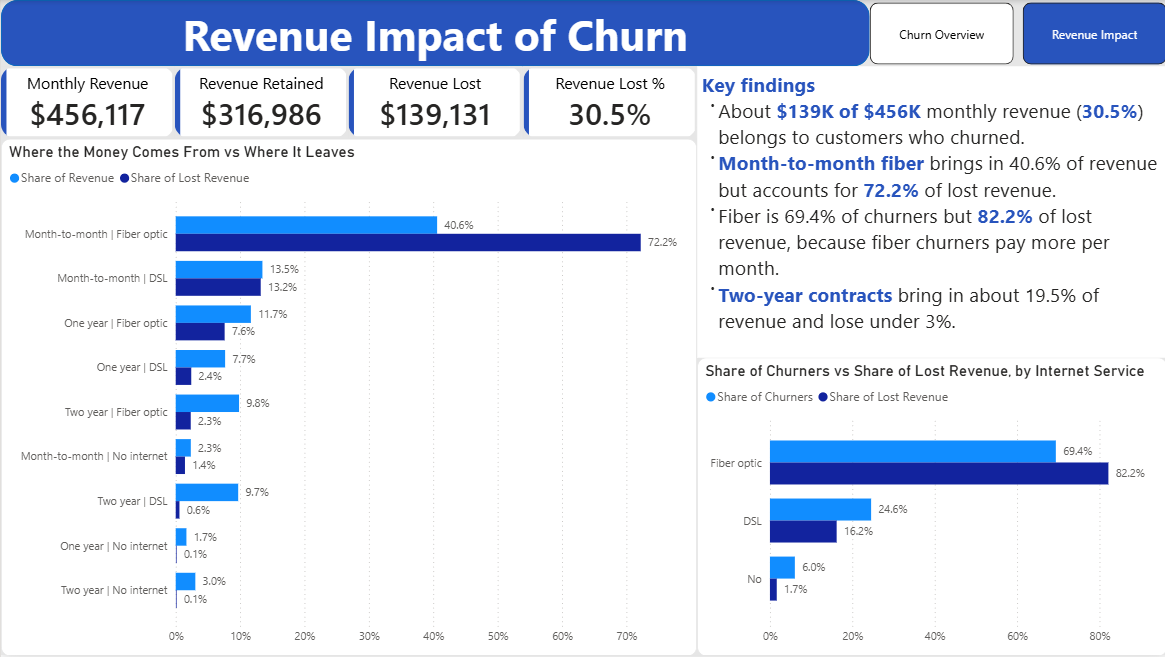

The page's visual inventory and layout, read from the dashboard file:
{"tool":"powerbi","page":{"name":"Revenue Impact","canvas":[1280,720],"ordinal":1},"visuals":[{"type":"shape","box":[0,0,953.7,72.7],"z":0},{"type":"cardVisual","fields":{"Data":["WA_Fn-UseC_-Telco-Customer-Churn.Monthly Revenue1"]},"box":[0,72.7,190.7,79.6],"z":1000},{"type":"cardVisual","fields":{"Data":["WA_Fn-UseC_-Telco-Customer-Churn.Revenue Retained1"]},"box":[190.7,72.7,190.7,79.6],"z":2000},{"type":"cardVisual","fields":{"Data":["WA_Fn-UseC_-Telco-Customer-Churn.Revenue Lost Text"]},"box":[381.5,72.7,190.7,79.6],"z":3000},{"type":"cardVisual","fields":{"Data":["WA_Fn-UseC_-Telco-Customer-Churn.Revenue Lost %"]},"box":[573.6,72.7,190.7,79.6],"z":4000},{"type":"clusteredBarChart","title":"Where the Money Comes From vs Where It Leaves","fields":{"Category":["WA_Fn-UseC_-Telco-Customer-Churn.Segment"],"Y":["WA_Fn-UseC_-Telco-Customer-Churn.Share of Revenue","WA_Fn-UseC_-Telco-Customer-Churn.Share of Lost Revenue"]},"box":[0,152.3,764.3,568.1],"z":5000},{"type":"clusteredBarChart","title":"Share of Churners vs Share of Lost Revenue, by Internet Service","fields":{"Category":["WA_Fn-UseC_-Telco-Customer-Churn.InternetService"],"Y":["WA_Fn-UseC_-Telco-Customer-Churn.Share of Churners","WA_Fn-UseC_-Telco-Customer-Churn.Share of Lost Revenue"]},"box":[764.3,392.5,516,328],"z":6000},{"type":"textbox","box":[764.3,72.7,516,319.7],"z":7000},{"type":"pageNavigator","box":[953.7,2.7,326.6,68.6],"z":8000}]}

Visuals, with their boxes in screenshot pixels (x1, y1, x2, y2), scaled from the page's 1280x720 canvas onto the 1165x657 screenshot:
shape: left=0, top=0, right=868, bottom=66
cardVisual - WA_Fn-UseC_-Telco-Customer-Churn.Monthly Revenue1: left=0, top=66, right=174, bottom=139
cardVisual - WA_Fn-UseC_-Telco-Customer-Churn.Revenue Retained1: left=174, top=66, right=347, bottom=139
cardVisual - WA_Fn-UseC_-Telco-Customer-Churn.Revenue Lost Text: left=347, top=66, right=521, bottom=139
cardVisual - WA_Fn-UseC_-Telco-Customer-Churn.Revenue Lost %: left=522, top=66, right=696, bottom=139
"Where the Money Comes From vs Where It Leaves" clusteredBarChart: left=0, top=139, right=696, bottom=656
"Share of Churners vs Share of Lost Revenue, by Internet Service" clusteredBarChart: left=696, top=358, right=1164, bottom=656
textbox: left=696, top=66, right=1164, bottom=358
pageNavigator: left=868, top=2, right=1164, bottom=65
